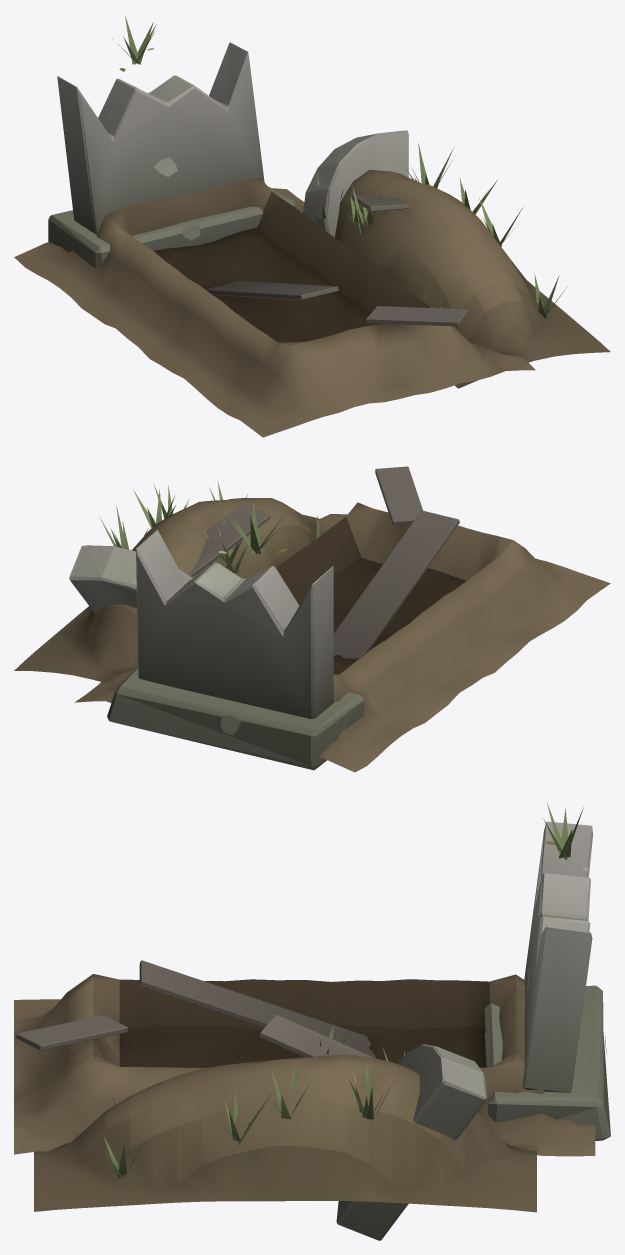
File: grave_open.glb
The picture shows the model from 3 angles, top to bottom: view 1: azimuth 30°, elevation 25°; view 2: azimuth 150°, elevation 25°; view 3: azimuth 270°, elevation 25°; orthographic projection. The views are drawn at different scales.
Visible parts, largest first — view 1: grave_open; view 2: grave_open; view 3: grave_open.
Boxes of the visible parts, x1,y1,x2,y2 form: grave_open: [14, 15, 610, 437]; grave_open: [14, 466, 610, 772]; grave_open: [14, 803, 610, 1240].
Size of what is drawn, in the model's own units: 2.5 by 1.94 by 3.11.
